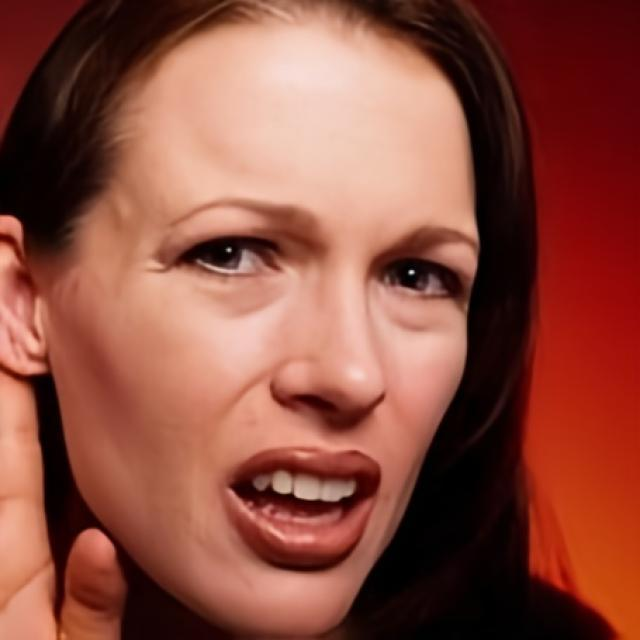disgust: (48, 2, 478, 640)
